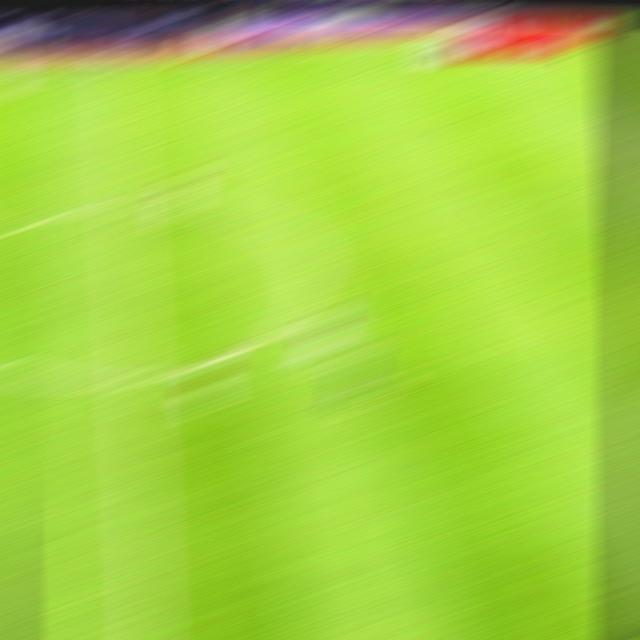halfcircle_bottom: (107, 360, 162, 399)
halfcircle_top: (99, 185, 149, 225)
midline_top_intersection: (88, 54, 144, 79)
